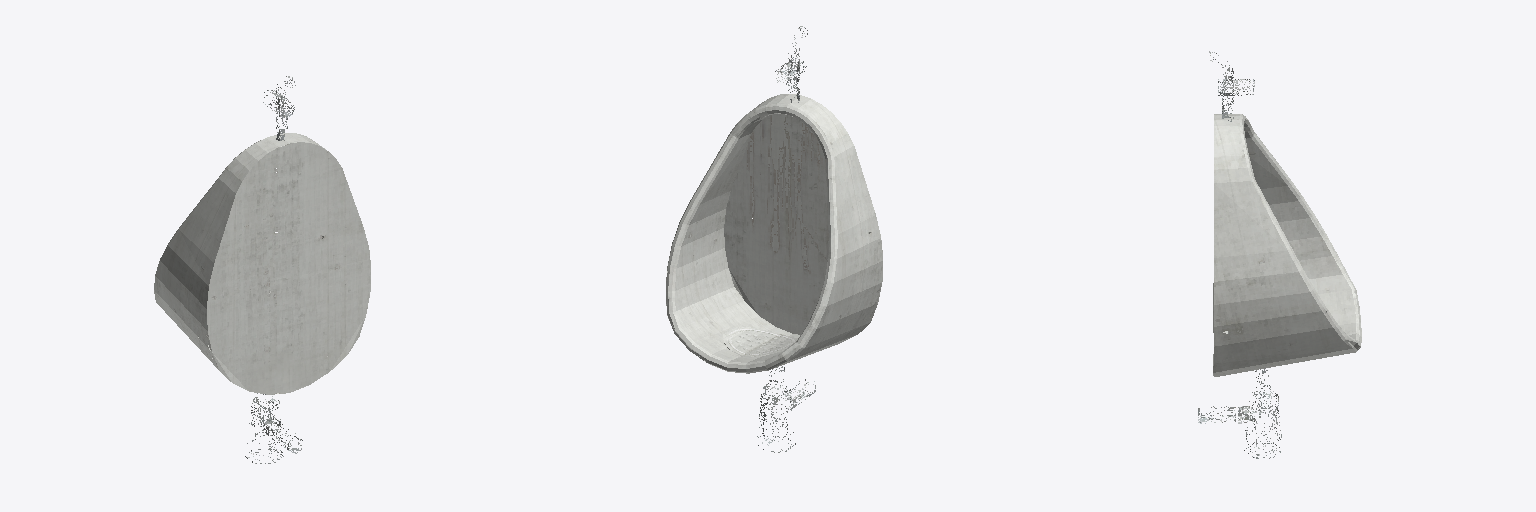
3 renders of one model, left to right at view 1: azimuth 30°, elevation 25°; view 2: azimuth 150°, elevation 25°; view 3: azimuth 270°, elevation 25°, orthographic.
Visible parts, largest first — view 1: mesh; view 2: mesh; view 3: mesh.
Boxes of the visible parts, box(x1,y1,x2,y2) form: mesh: box(154, 76, 370, 463); mesh: box(666, 26, 882, 452); mesh: box(1198, 51, 1361, 458).
Size of the model in its own units: 26.87 by 63.47 by 23.11.
Materials: 1 (1 with a texture image).